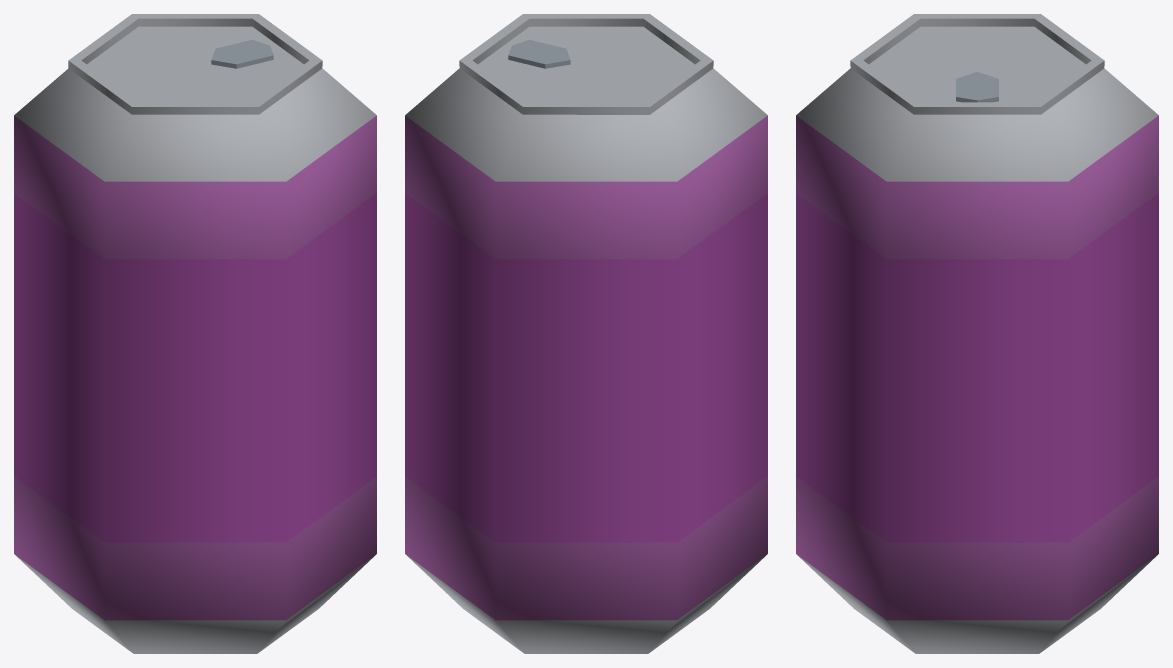
Rendered from purple_can.fbx.
The picture shows the model from 3 angles, left to right: view 1: azimuth 30°, elevation 25°; view 2: azimuth 150°, elevation 25°; view 3: azimuth 270°, elevation 25°; orthographic projection.
Visible parts, largest first — view 1: Purple_can; view 2: Purple_can; view 3: Purple_can.
Part boxes in pixels (left/top/right/bottom): Purple_can: left=14, top=14, right=376, bottom=653; Purple_can: left=405, top=14, right=767, bottom=653; Purple_can: left=796, top=14, right=1158, bottom=653.
Size of the model in its own units: 0.3796 by 0.4384 by 0.7306.
